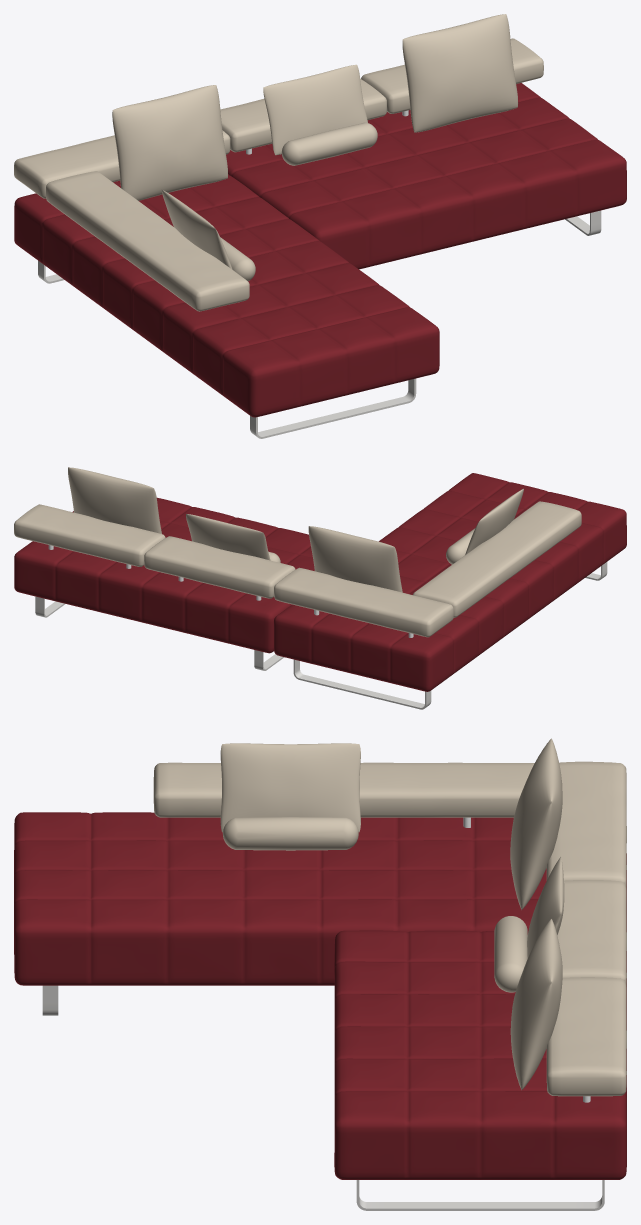
The model's file is reclX4ybwMkzI7jz2.glb.
3 renders of one model, top to bottom at view 1: azimuth 30°, elevation 25°; view 2: azimuth 150°, elevation 25°; view 3: azimuth 270°, elevation 25°, orthographic. The views are drawn at different scales.
Parts seen in each view (by area): view 1: Canape_Base_Meridienne, Canape_Base_Grand_Cote, Canape, Canape_Dossier_Meridienne, Canape_Dossier_Angle, Canape_Pieds_Inox; view 2: Canape_Base_Meridienne, Canape, Canape_Base_Grand_Cote, Canape_Dossier_Meridienne, Canape_Dossier_Angle, Canape_Pieds_Inox; view 3: Canape_Base_Meridienne, Canape_Base_Grand_Cote, Canape, Canape_Dossier_Meridienne, Canape_Dossier_Angle, Canape_Pieds_Inox.
Part boxes in pixels (x1,y1,x2,y2): Canape_Base_Meridienne: (14, 174, 439, 417); Canape_Base_Grand_Cote: (226, 83, 626, 269); Canape: (112, 14, 543, 281); Canape_Dossier_Meridienne: (46, 171, 249, 311); Canape_Dossier_Angle: (14, 130, 230, 198); Canape_Pieds_Inox: (38, 210, 601, 438); Canape_Base_Meridienne: (274, 473, 626, 691); Canape: (14, 467, 523, 598); Canape_Base_Grand_Cote: (14, 497, 314, 653); Canape_Dossier_Meridienne: (413, 501, 581, 617); Canape_Dossier_Angle: (274, 567, 453, 637); Canape_Pieds_Inox: (35, 562, 607, 709); Canape_Base_Meridienne: (14, 812, 626, 985); Canape_Base_Grand_Cote: (334, 930, 626, 1179); Canape: (220, 738, 626, 1096); Canape_Dossier_Meridienne: (153, 762, 534, 817); Canape_Dossier_Angle: (546, 761, 626, 889); Canape_Pieds_Inox: (42, 985, 604, 1210).
Size of the model in its own units: 2.86 by 0.9301 by 2.37.
